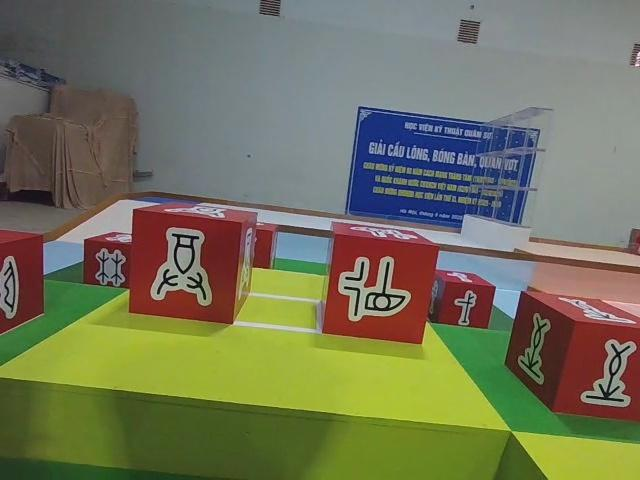R2 Real: (502, 288, 640, 424), (127, 198, 259, 327), (318, 216, 443, 347), (0, 227, 47, 336), (427, 265, 498, 333), (83, 229, 145, 288)
